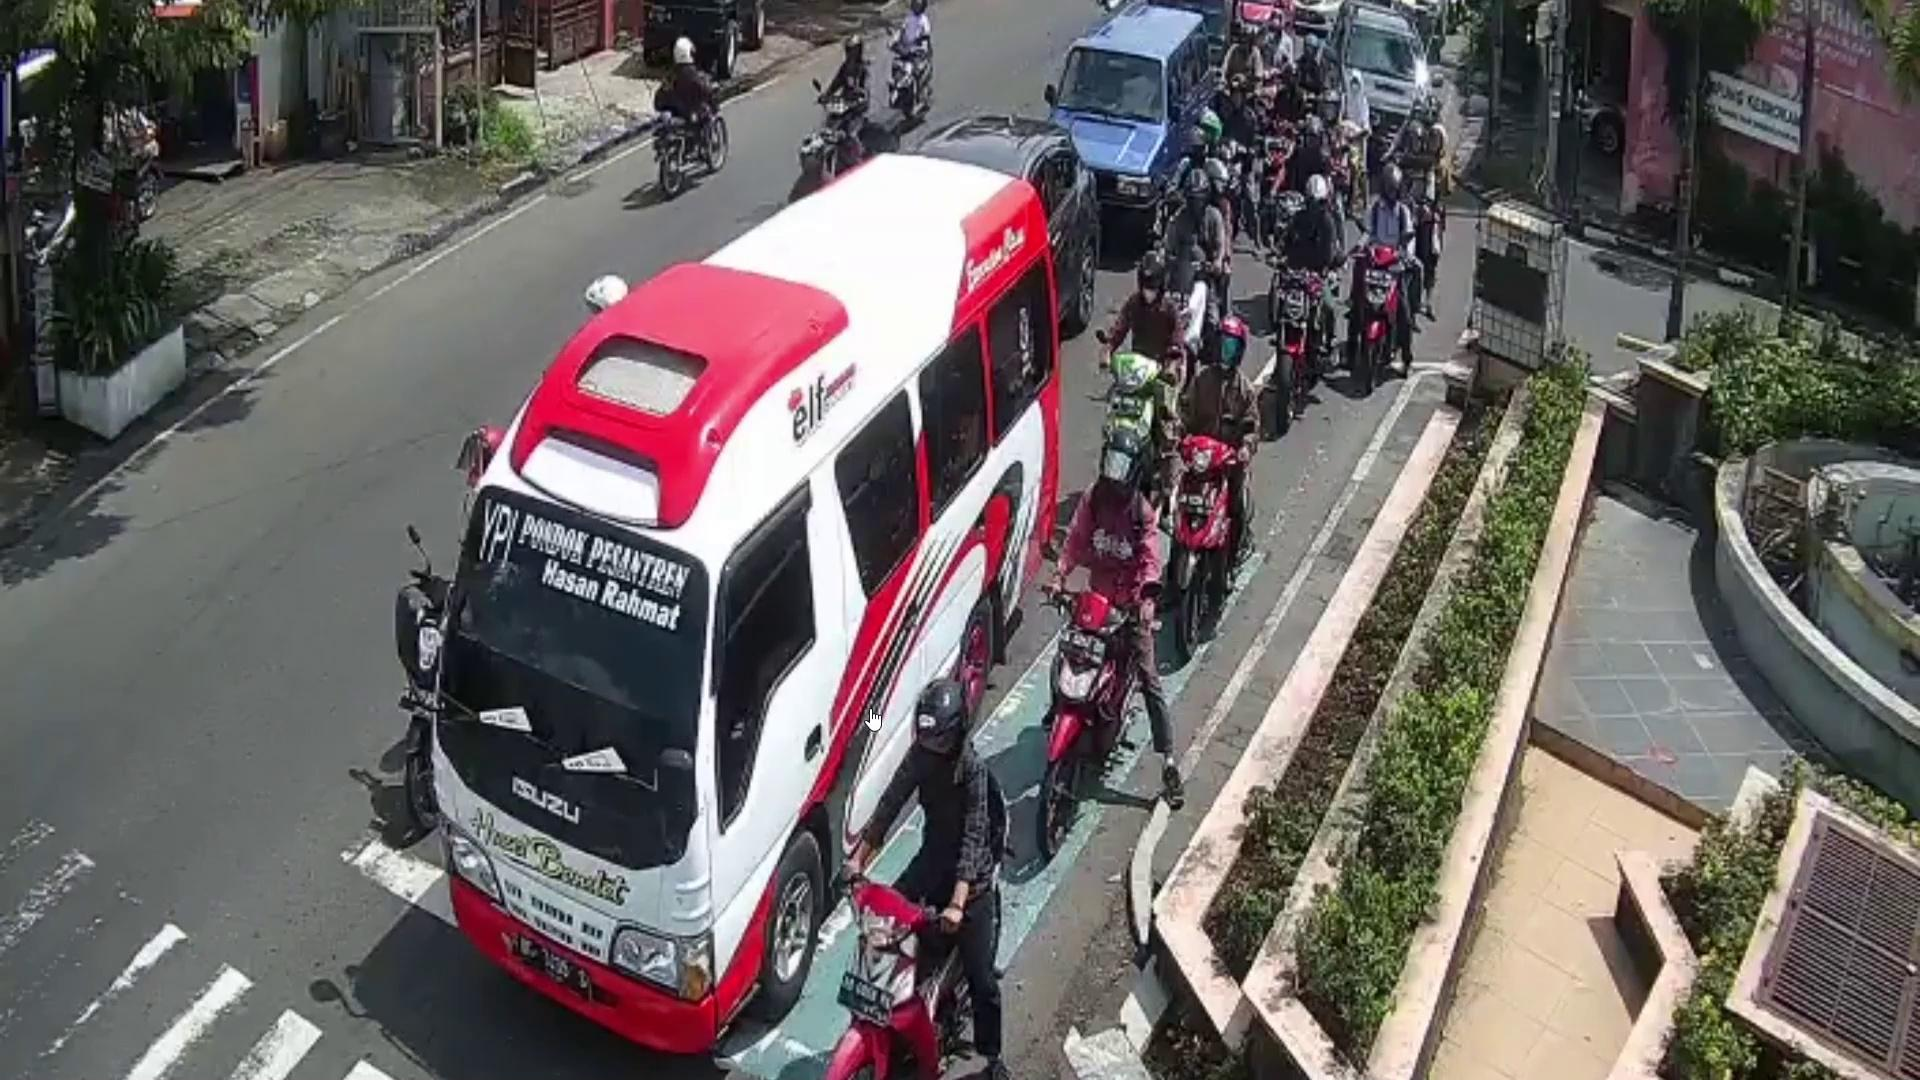bus: (450, 152, 1068, 1044)
car: (1052, 0, 1221, 244), (938, 105, 1110, 310), (1329, 5, 1437, 164)
motorbike: (856, 847, 997, 1080), (1047, 585, 1138, 848), (1089, 353, 1170, 526), (1180, 425, 1233, 653), (1275, 266, 1328, 440), (647, 78, 731, 185), (1354, 241, 1402, 384), (818, 90, 872, 183), (889, 37, 940, 125)
